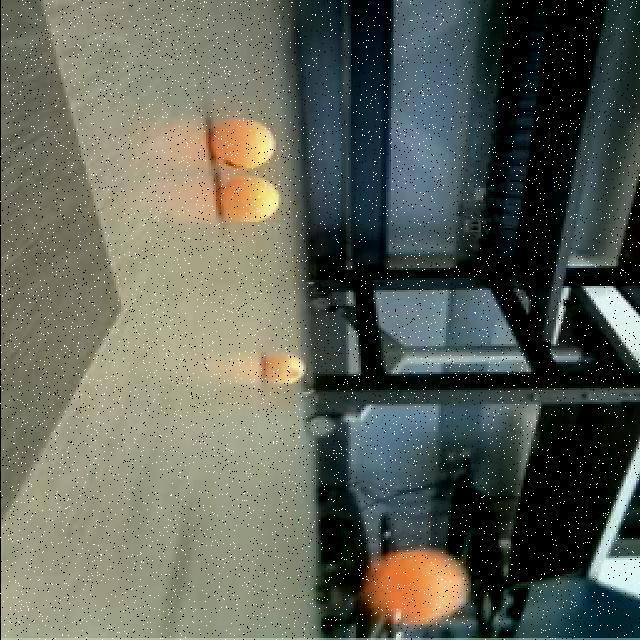ping-pong-ball: (366, 544, 471, 630), (213, 176, 283, 228), (212, 117, 280, 167), (256, 350, 308, 388)
